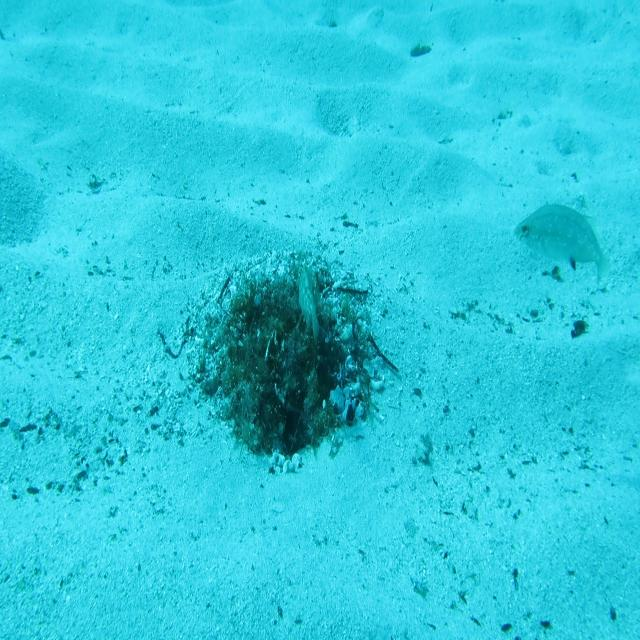NIP_CORE: (295, 261, 325, 352)
core_nest: (258, 297, 312, 329)
female: (512, 201, 612, 289)
nest: (177, 238, 398, 484)
vegetation: (569, 312, 589, 347), (408, 40, 434, 59)
